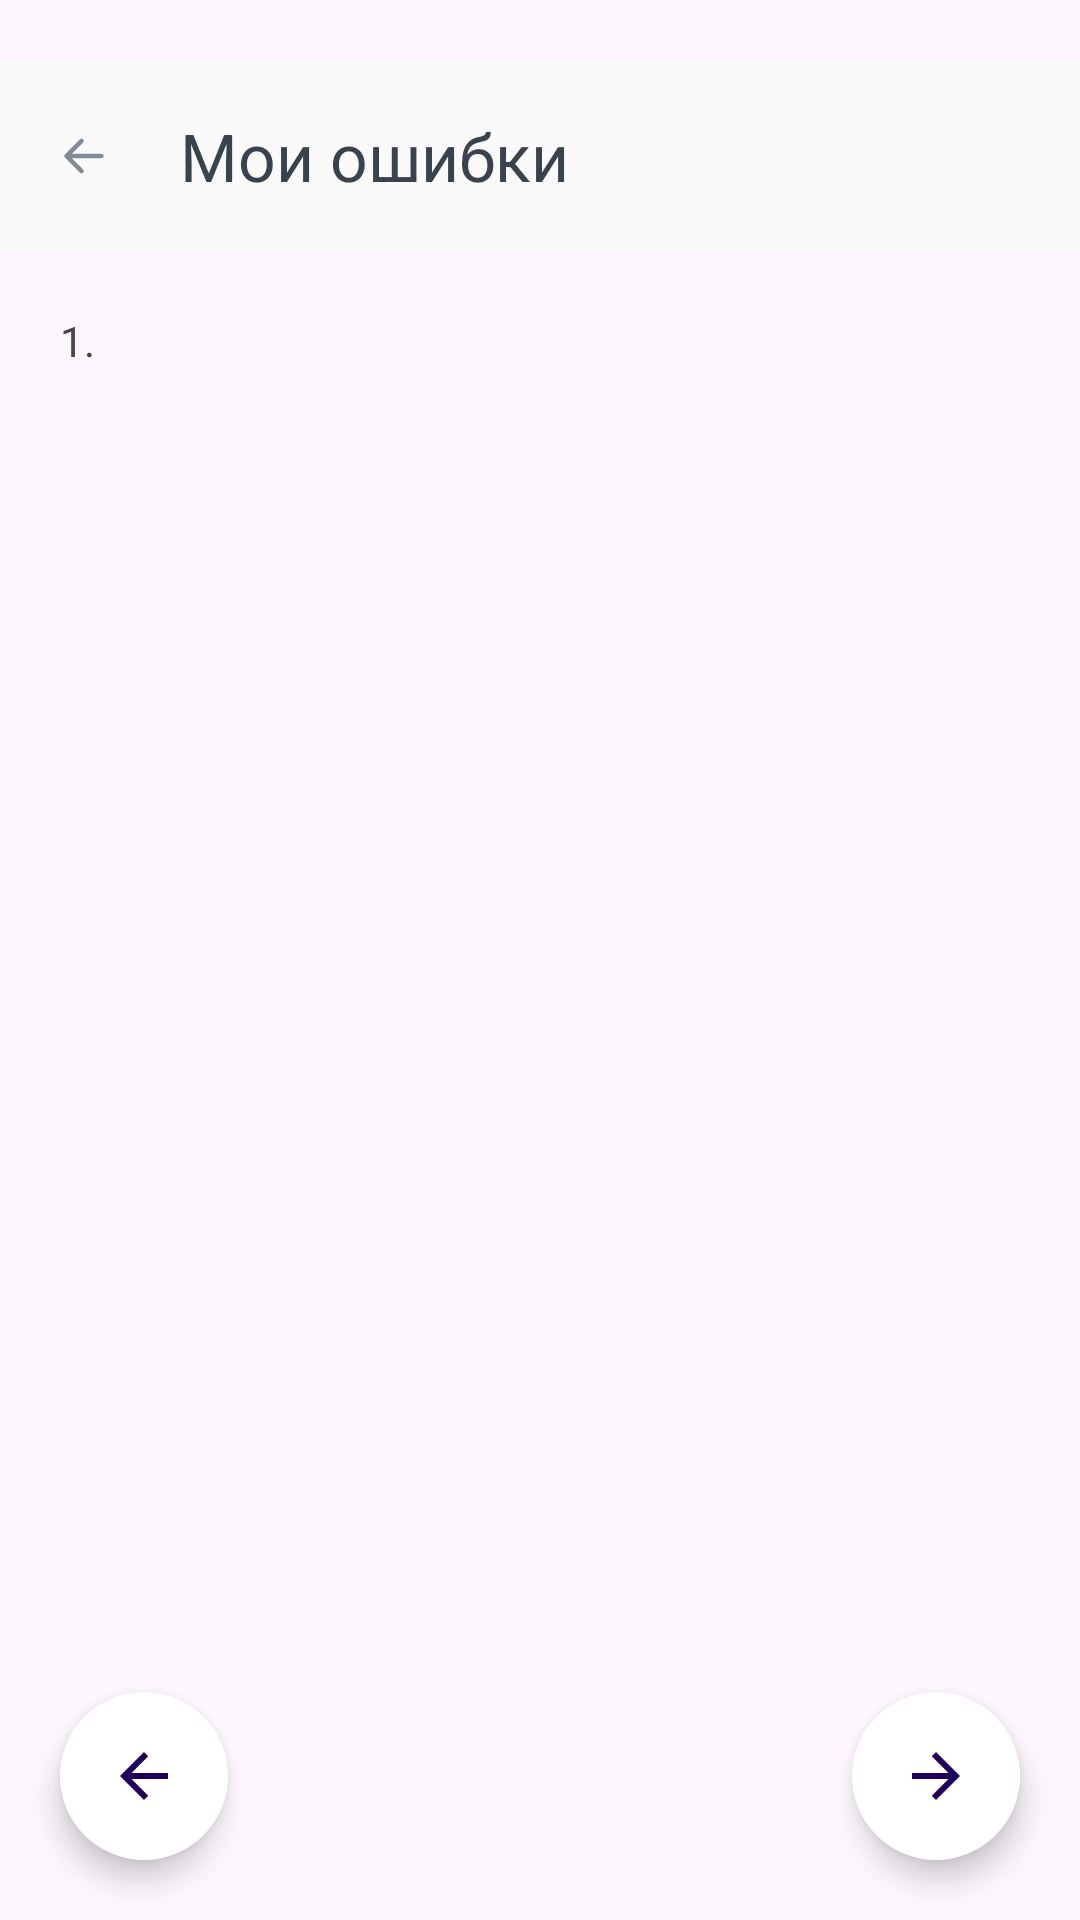

Icon bounding boxes for this 1080*1920 phone screenshot, format (x1, y1, x2, y2):
arrow back: (60, 1692, 228, 1860)
arrow forward: (852, 1692, 1020, 1860)
